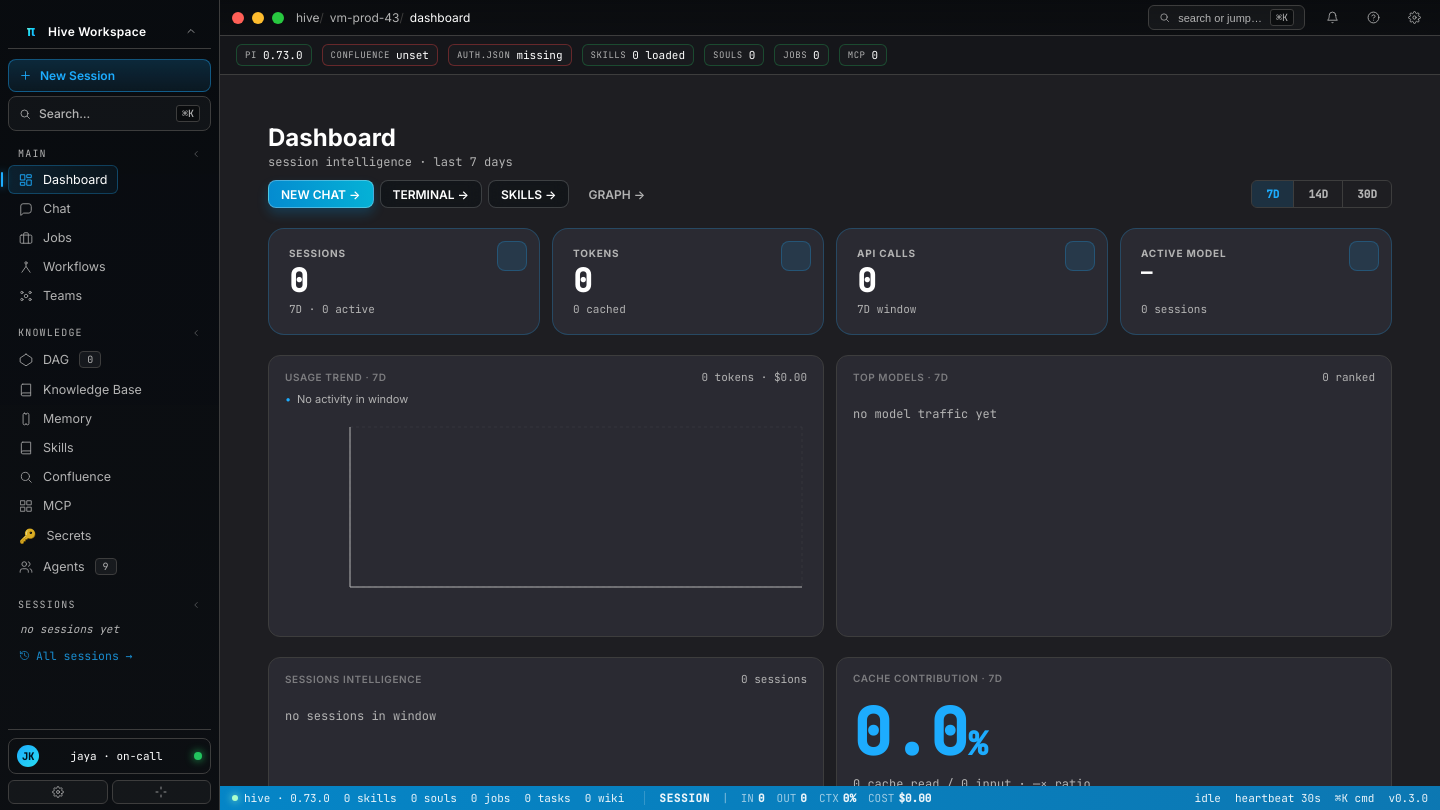
Test case: sidebar persistence › collapses on click and writes to localStorage
Step 1. Click the button with test id "sb-collapse" → (188, 31), box [179,22,197,40]
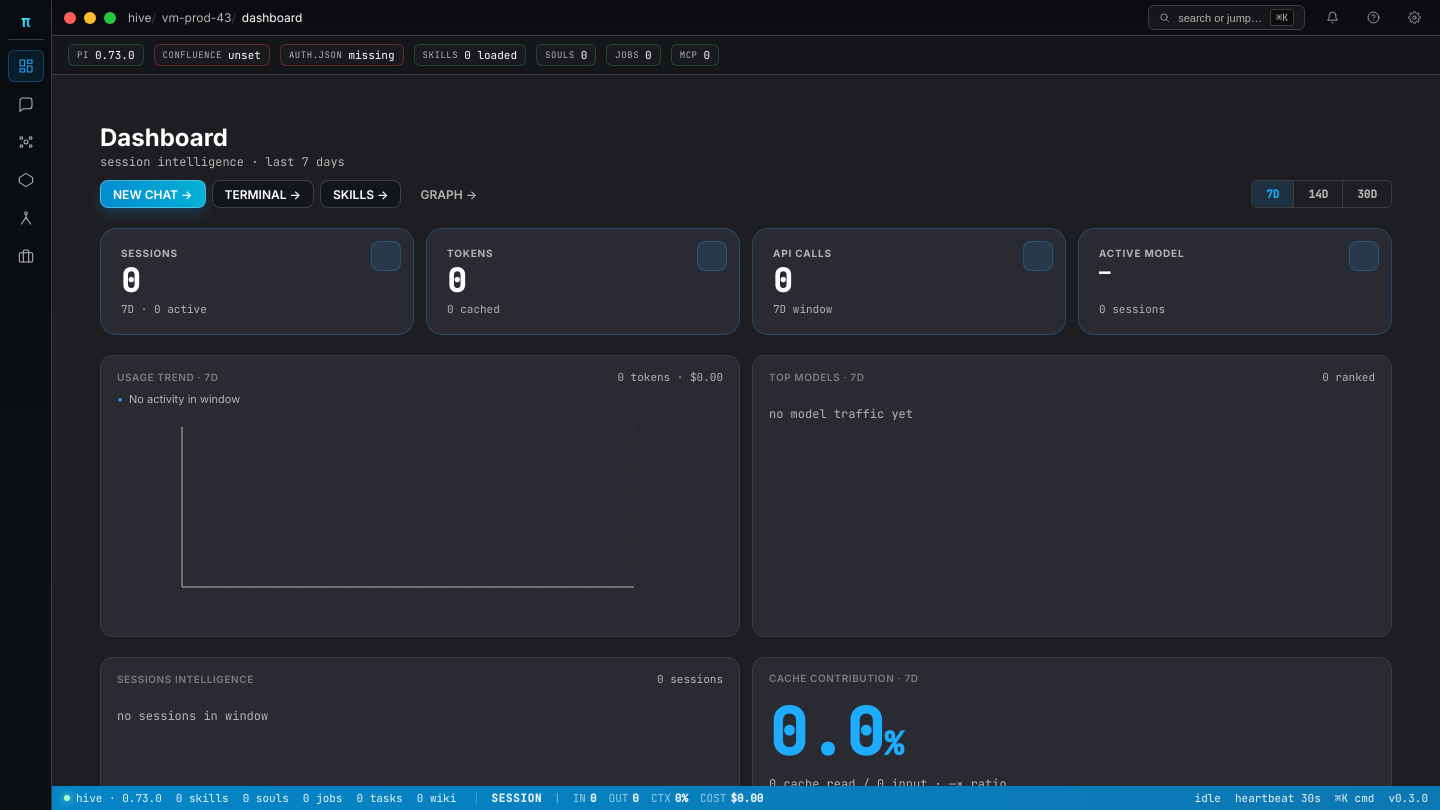
Expected: the element with test id "sidebar-collapsed" is shown, [0,0,52,809]
